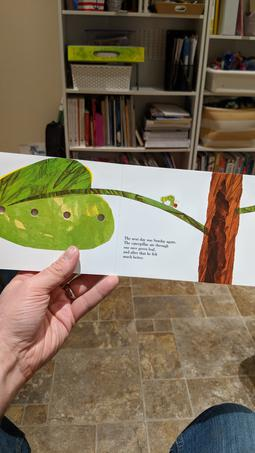text block: (119, 231, 177, 267)
